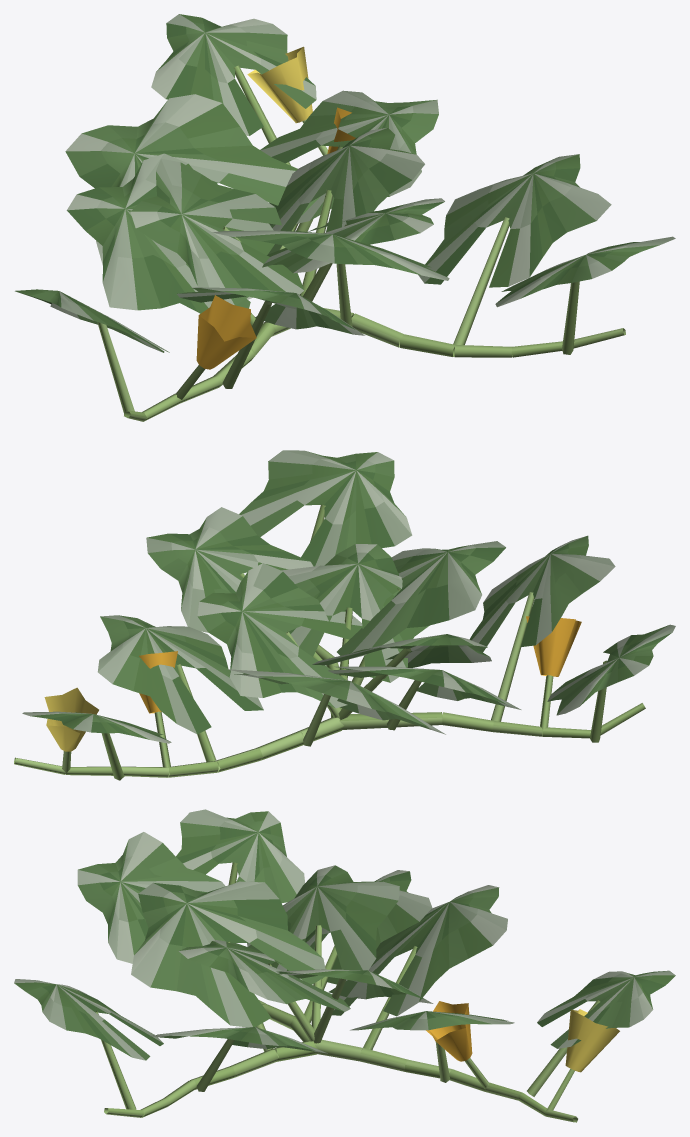
The model's file is courge_fleurs.glb.
3 renders of one model, top to bottom at view 1: azimuth 30°, elevation 25°; view 2: azimuth 150°, elevation 25°; view 3: azimuth 270°, elevation 25°, orthographic. The views are drawn at different scales.
Parts seen in each view (by area): view 1: Courge_Feuilles, Courge_Tiges, Courge_Fleurs; view 2: Courge_Feuilles, Courge_Tiges, Courge_Fleurs; view 3: Courge_Feuilles, Courge_Tiges, Courge_Fleurs.
Part boxes in pixels (x1,y1,x2,y2): Courge_Feuilles: (15,14,675,352); Courge_Tiges: (97,65,625,421); Courge_Fleurs: (196,46,355,369); Courge_Feuilles: (22,450,675,743); Courge_Tiges: (14,504,645,780); Courge_Fleurs: (44,616,581,751); Courge_Feuilles: (14,809,675,1060); Courge_Tiges: (95,862,600,1122); Courge_Fleurs: (426,1001,619,1072).
Size of the model in its own units: 0.9642 by 0.2653 by 1.15.
